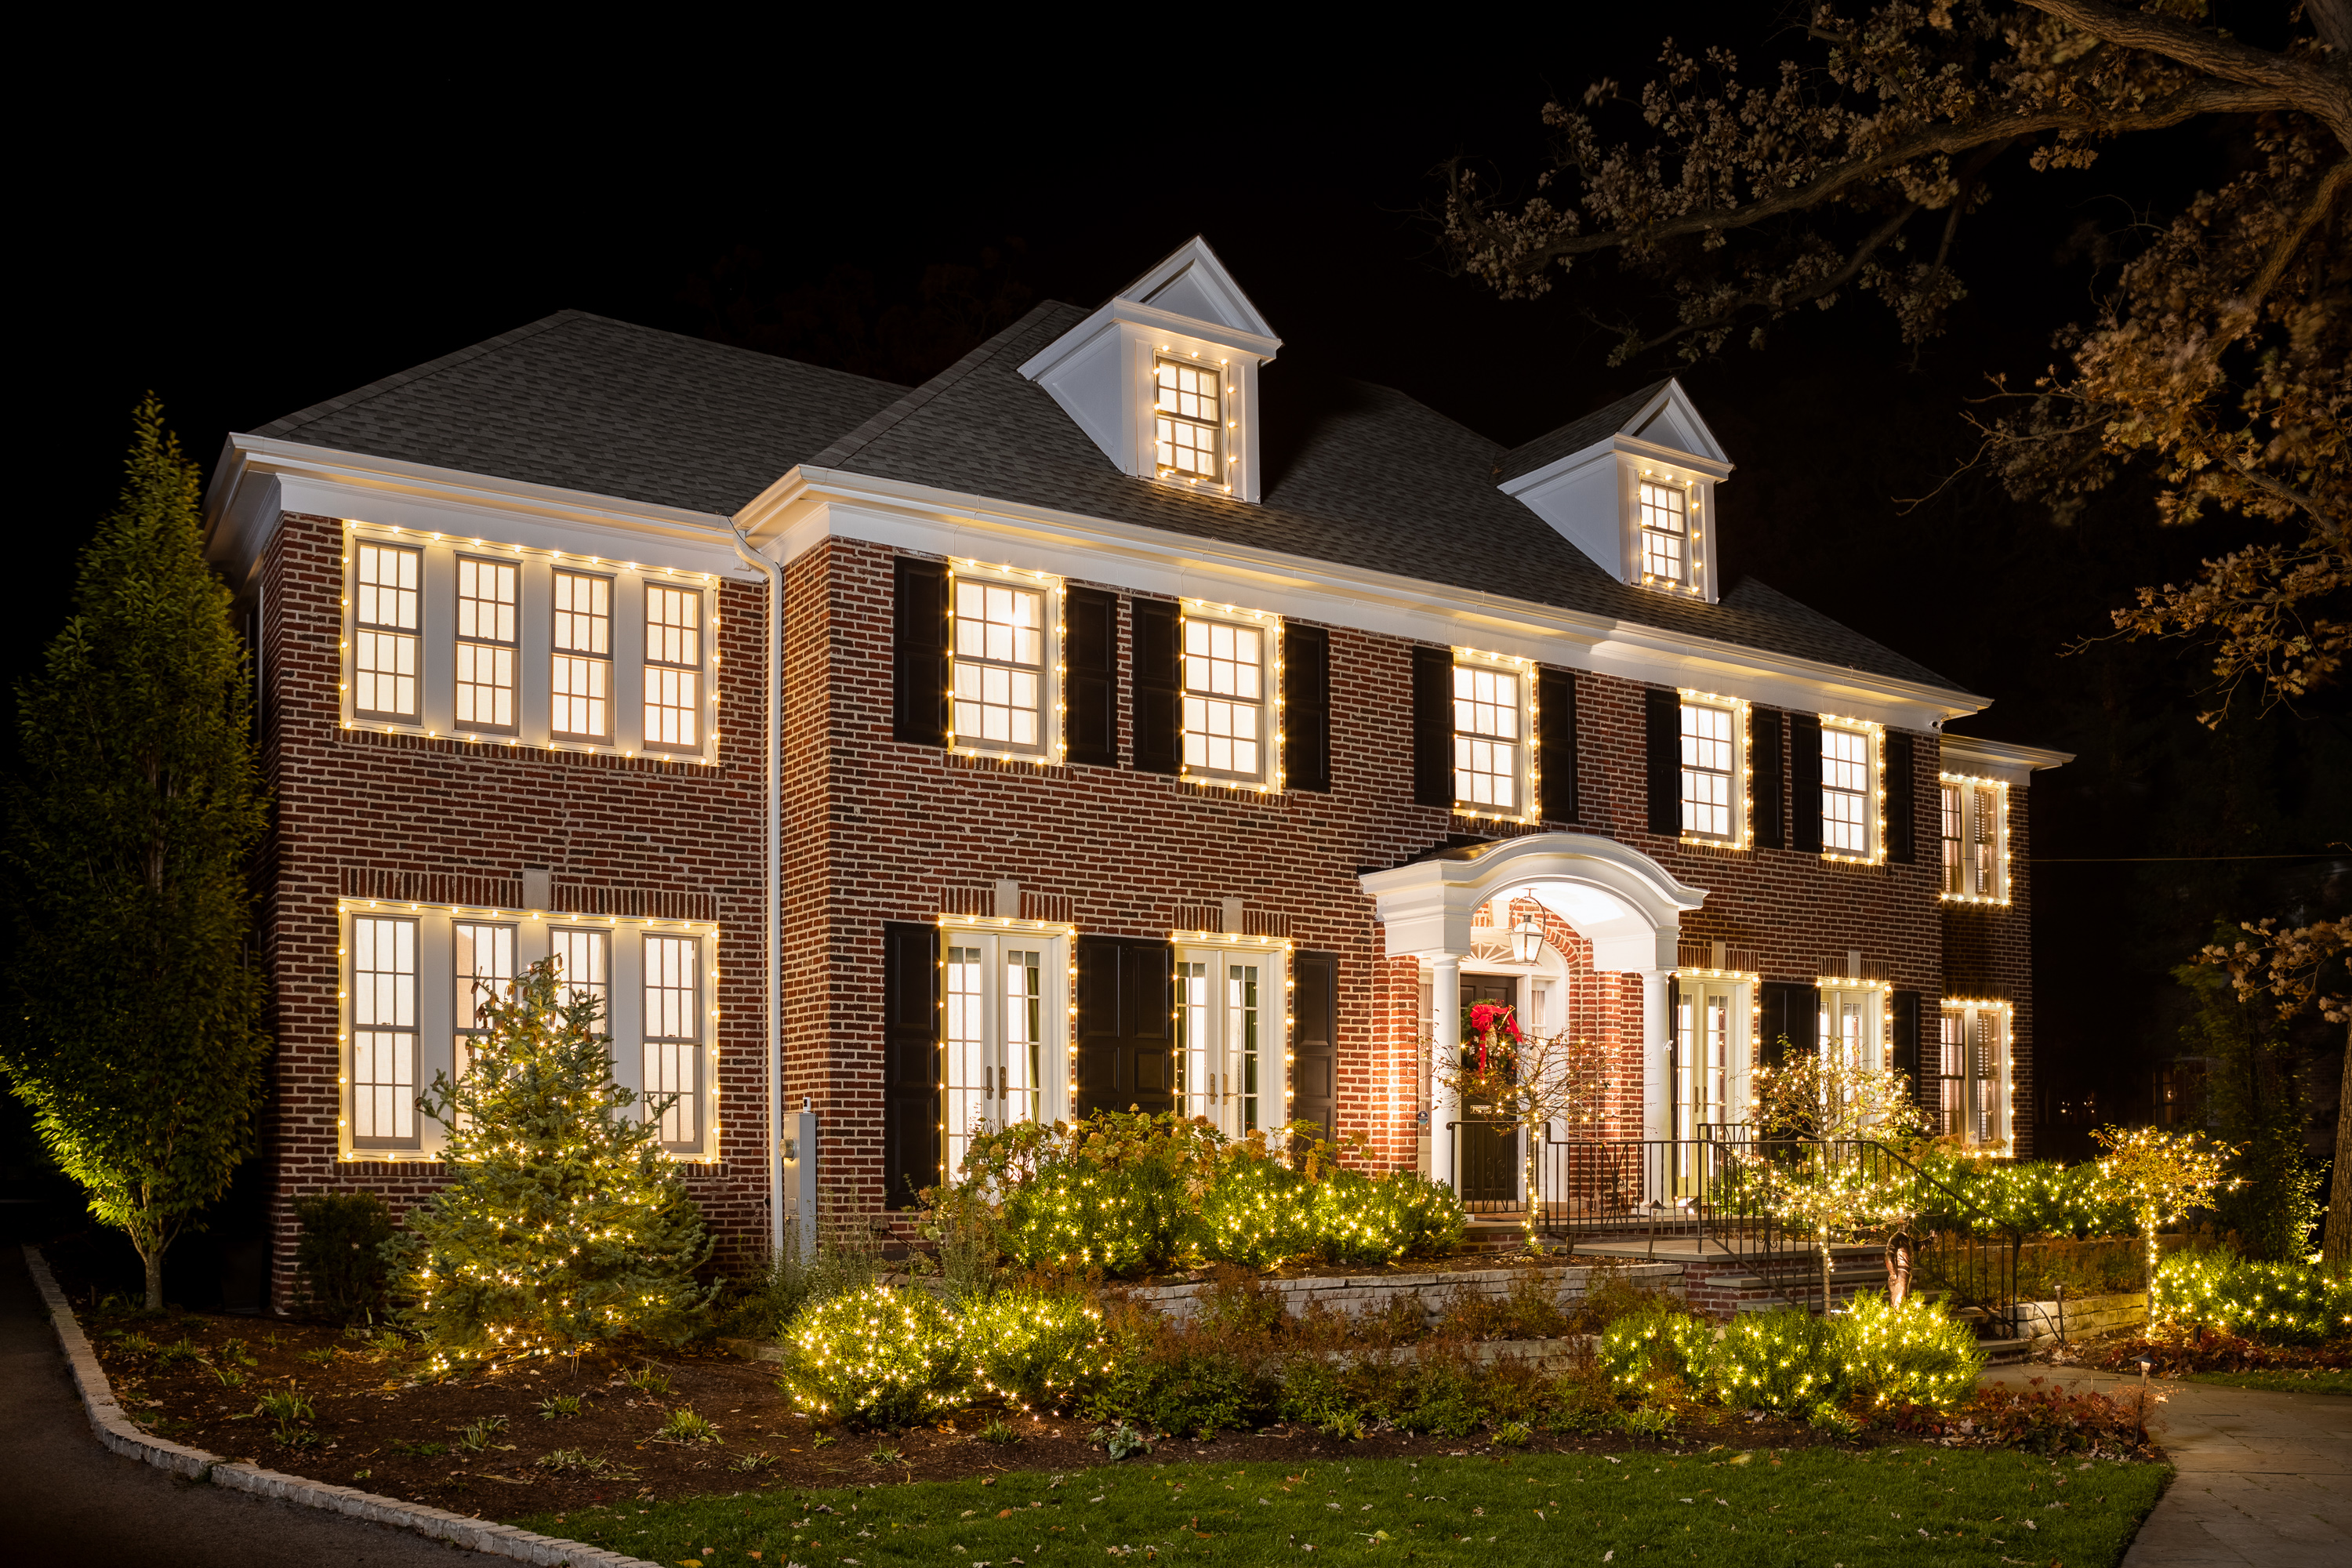Window: (350, 898, 726, 1167), (350, 523, 724, 768), (954, 565, 1078, 777), (945, 929, 1057, 1125), (1179, 598, 1288, 800), (1169, 941, 1283, 1132), (1453, 651, 1533, 821), (1678, 996, 1747, 1195), (1673, 698, 1754, 849), (1811, 723, 1885, 868), (1941, 1004, 2016, 1146), (1934, 777, 2013, 910), (1629, 474, 1708, 593), (1153, 348, 1225, 476), (1825, 1004, 1879, 1071)
